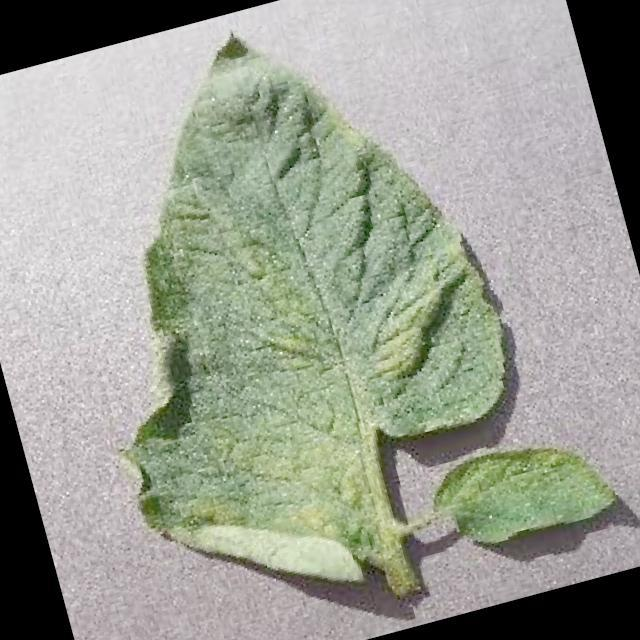Tomato spider mites leaf: (16, 0, 555, 633), (421, 416, 632, 562)
